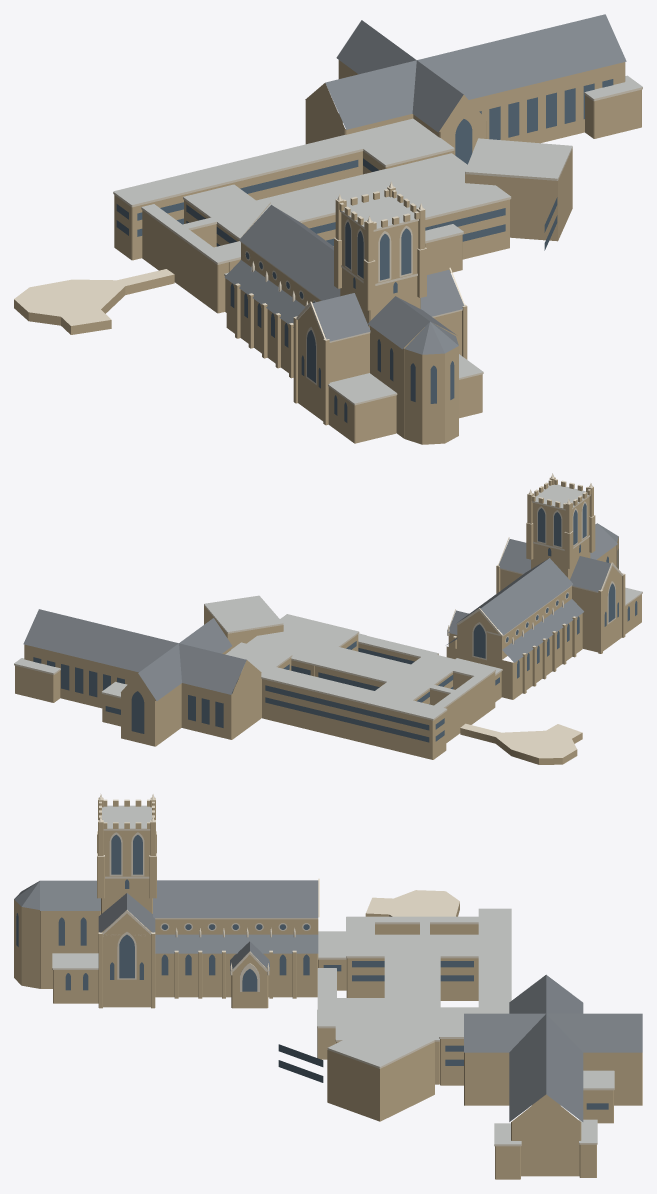
File: atl-cathedral-st-philip.glb
3 views of the same model, one above another, from view 1: azimuth 30°, elevation 25°; view 2: azimuth 150°, elevation 25°; view 3: azimuth 270°, elevation 25° (orthographic). The views are drawn at different scales.
Visible parts, largest first — view 1: Cathedral of St. Philip; view 2: Cathedral of St. Philip; view 3: Cathedral of St. Philip.
Boxes of the visible parts, bbox=[...] form: Cathedral of St. Philip: bbox=[14, 14, 642, 444]; Cathedral of St. Philip: bbox=[14, 473, 642, 764]; Cathedral of St. Philip: bbox=[14, 794, 642, 1179].
Size of the model in its own units: 153 by 44 by 145.
